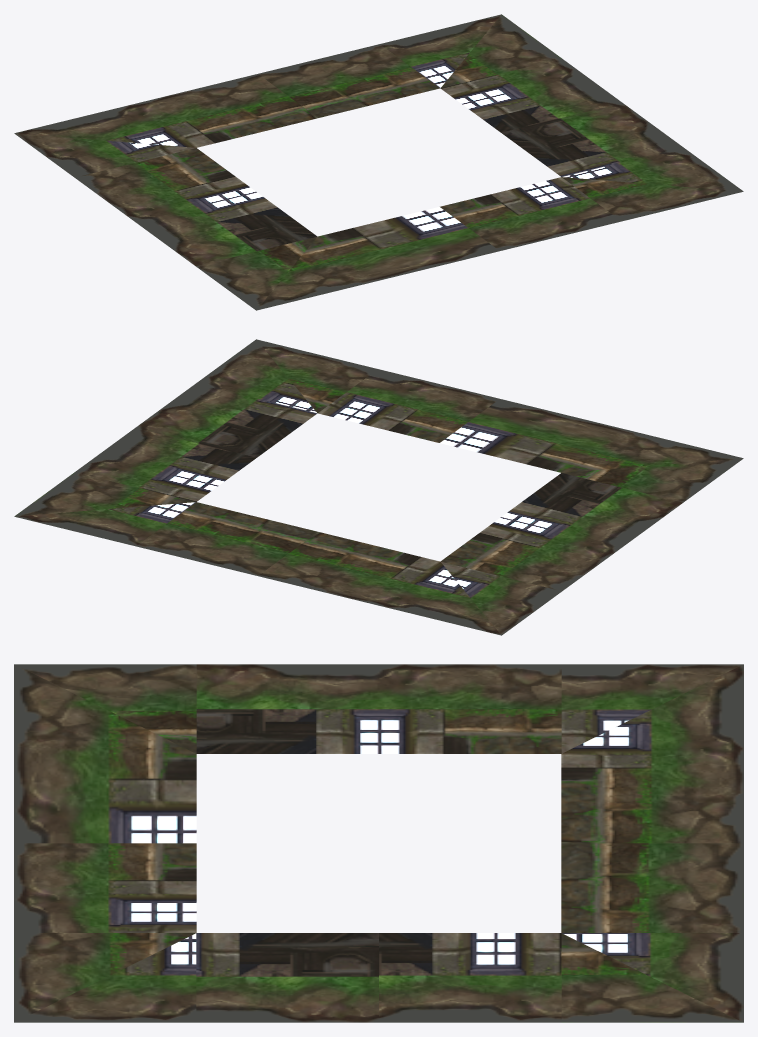
File: TownHall_Level03_L.FBX
3 renders of one model, top to bottom at view 1: azimuth 30°, elevation 25°; view 2: azimuth 150°, elevation 25°; view 3: azimuth 270°, elevation 25°, orthographic. The views are drawn at different scales.
Parts seen in each view (by area): view 1: TownHall_Level03_L; view 2: TownHall_Level03_L; view 3: TownHall_Level03_L.
Part boxes in pixels (<box>): TownHall_Level03_L: <box>14,14,743,310</box>; TownHall_Level03_L: <box>14,339,743,635</box>; TownHall_Level03_L: <box>14,664,743,1022</box>.
Bounding box in the file's own units: 476 × 2.49e-14 × 410.
